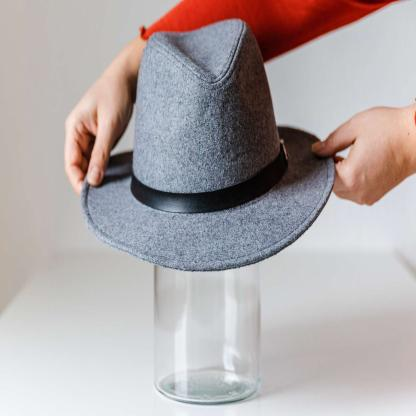hat: (77, 16, 342, 276)
